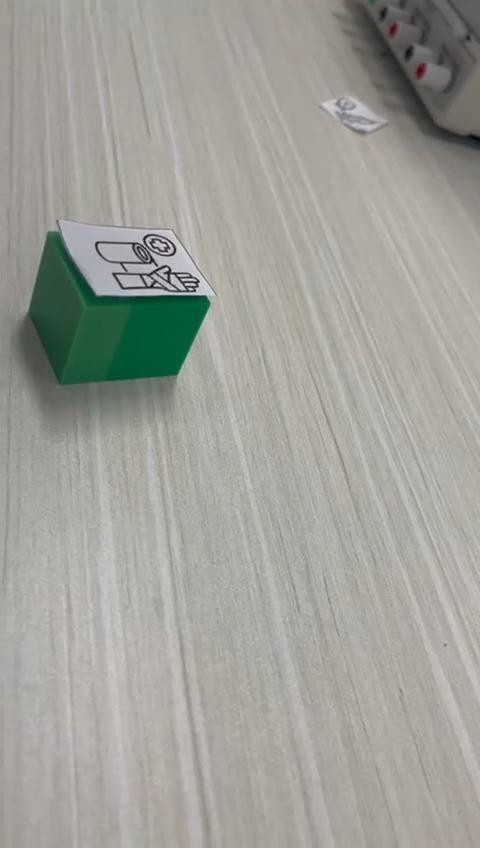Bandages: (30, 218, 217, 387)
